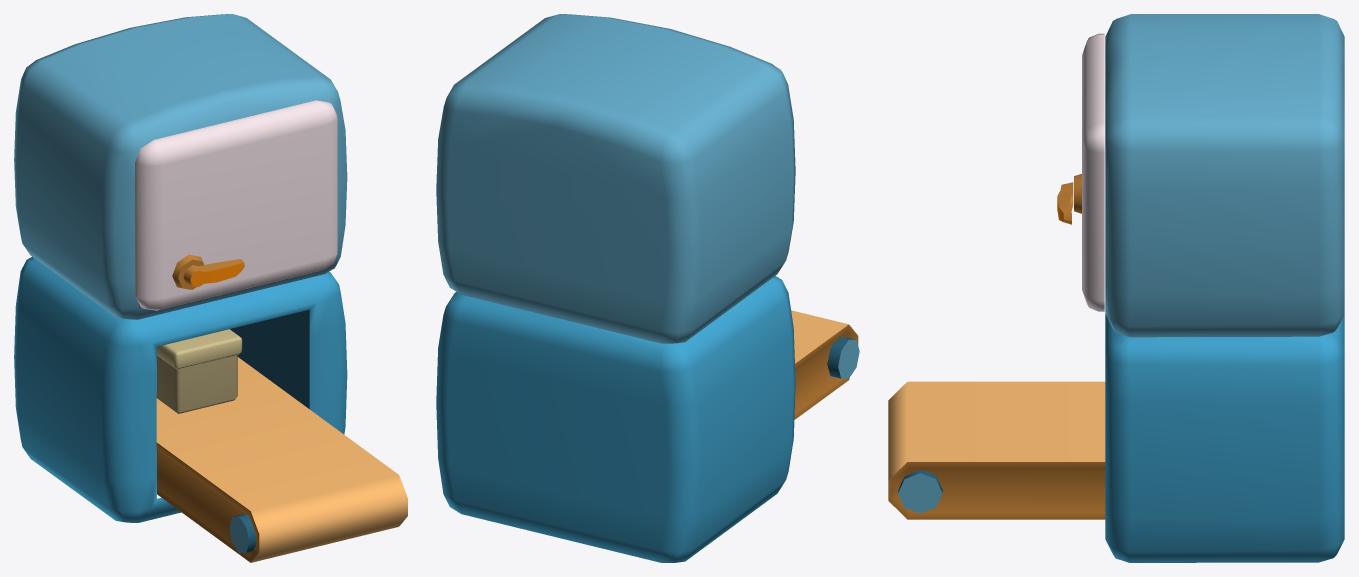
Rendered from Final_stock_fridge.fbx.
3 views of the same model, side by side, from view 1: azimuth 30°, elevation 25°; view 2: azimuth 150°, elevation 25°; view 3: azimuth 270°, elevation 25° (orthographic). The views are drawn at different scales.
Parts seen in each view (by area): view 1: stock_fridge; view 2: stock_fridge; view 3: stock_fridge.
Part boxes in pixels (left/top/right/bottom): stock_fridge: left=14, top=14, right=407, bottom=562; stock_fridge: left=436, top=14, right=859, bottom=562; stock_fridge: left=888, top=14, right=1344, bottom=562.
Bounding box in the file's own units: 123 × 198 × 180.
